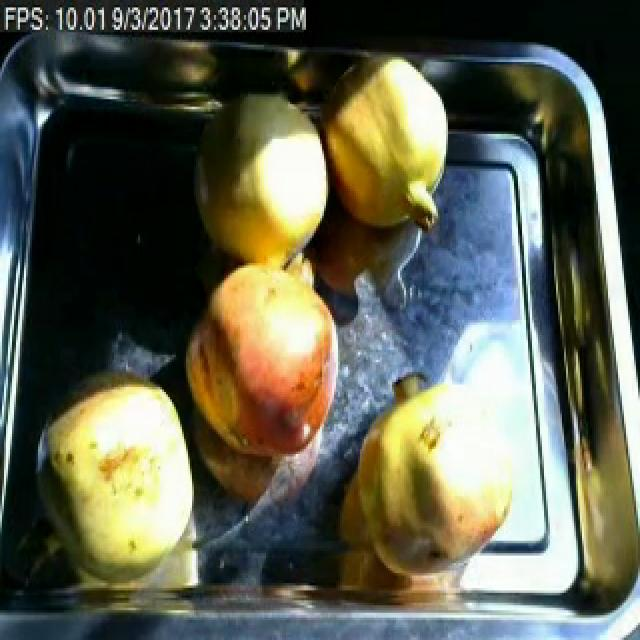fruit: (338, 358, 534, 596), (180, 251, 350, 481), (186, 80, 338, 276), (320, 50, 454, 248)
